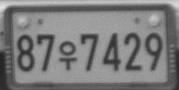2: (123, 31, 143, 70)
4: (102, 32, 121, 72)
7: (79, 32, 99, 71), (36, 33, 55, 72)
8: (16, 33, 35, 72)
9: (143, 31, 164, 70)
우: (58, 40, 78, 71)
